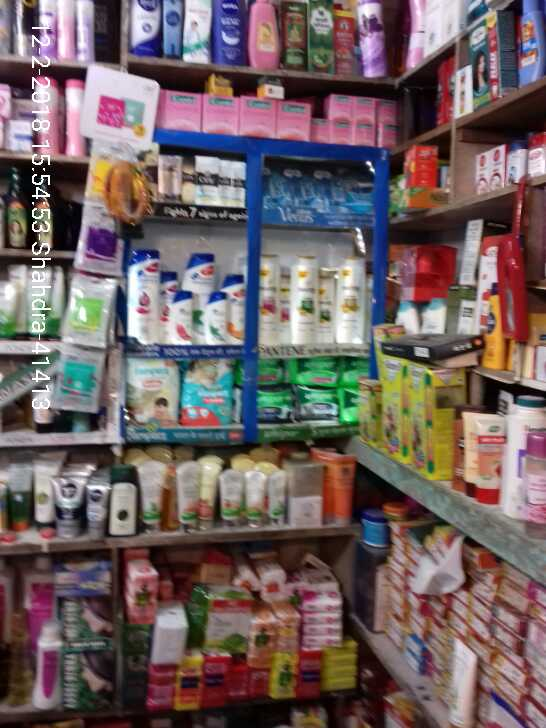venus: (313, 168, 338, 194), (298, 196, 335, 211), (335, 199, 374, 211), (283, 169, 301, 192), (265, 196, 298, 208), (265, 167, 276, 192)
